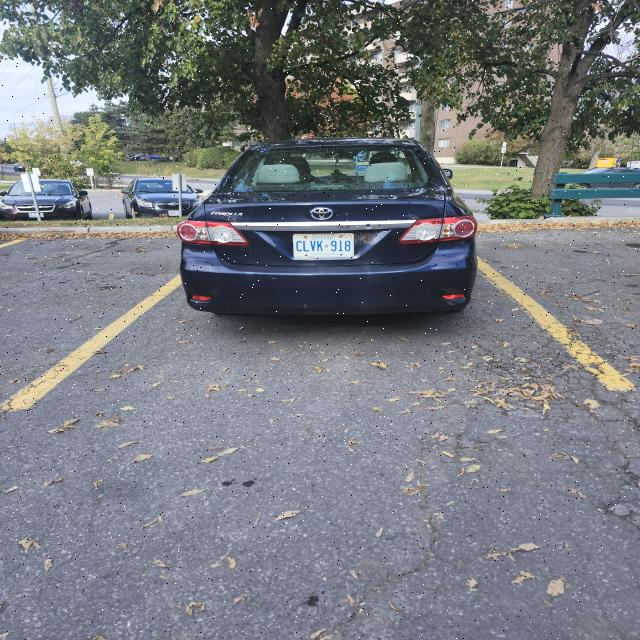plaque: (293, 233, 354, 259), (168, 210, 180, 216), (41, 213, 43, 218)
